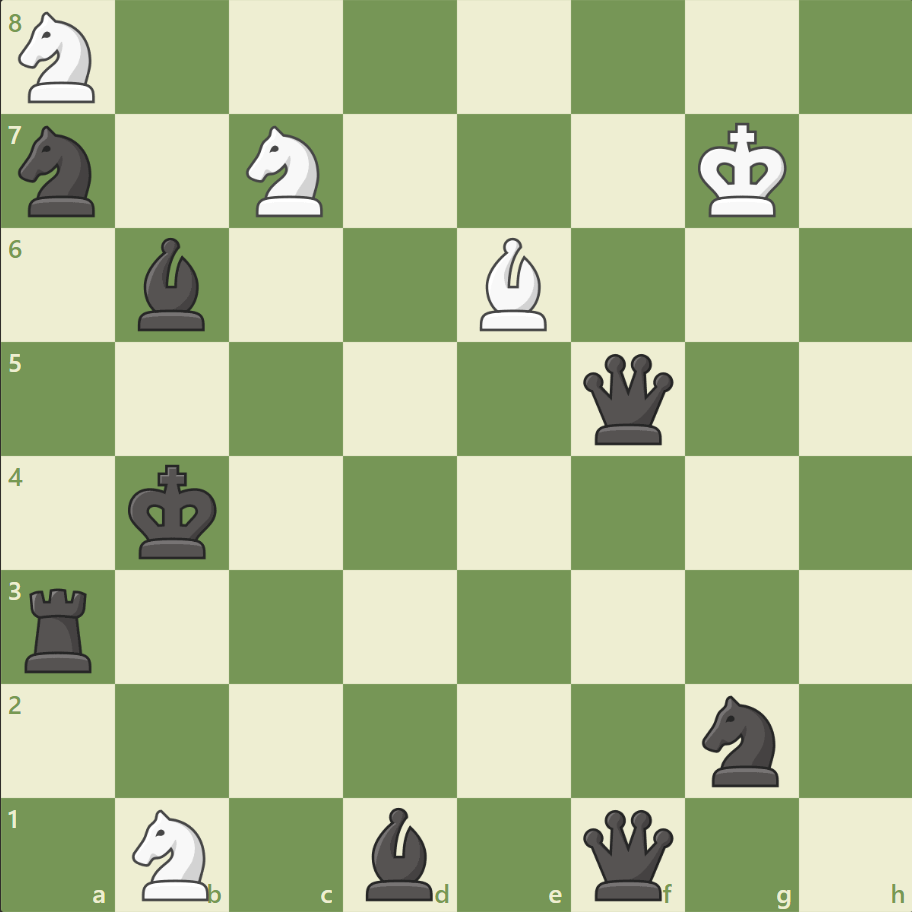B: (471, 233, 555, 336)
K: (692, 117, 792, 225)
N: (124, 802, 222, 904), (11, 7, 108, 110), (238, 121, 335, 223)
b: (131, 233, 215, 336), (358, 801, 442, 904)
k: (124, 458, 224, 566)
n: (692, 688, 789, 791), (11, 121, 108, 223)
q: (578, 349, 677, 449), (578, 804, 677, 903)
r: (19, 579, 102, 676)
